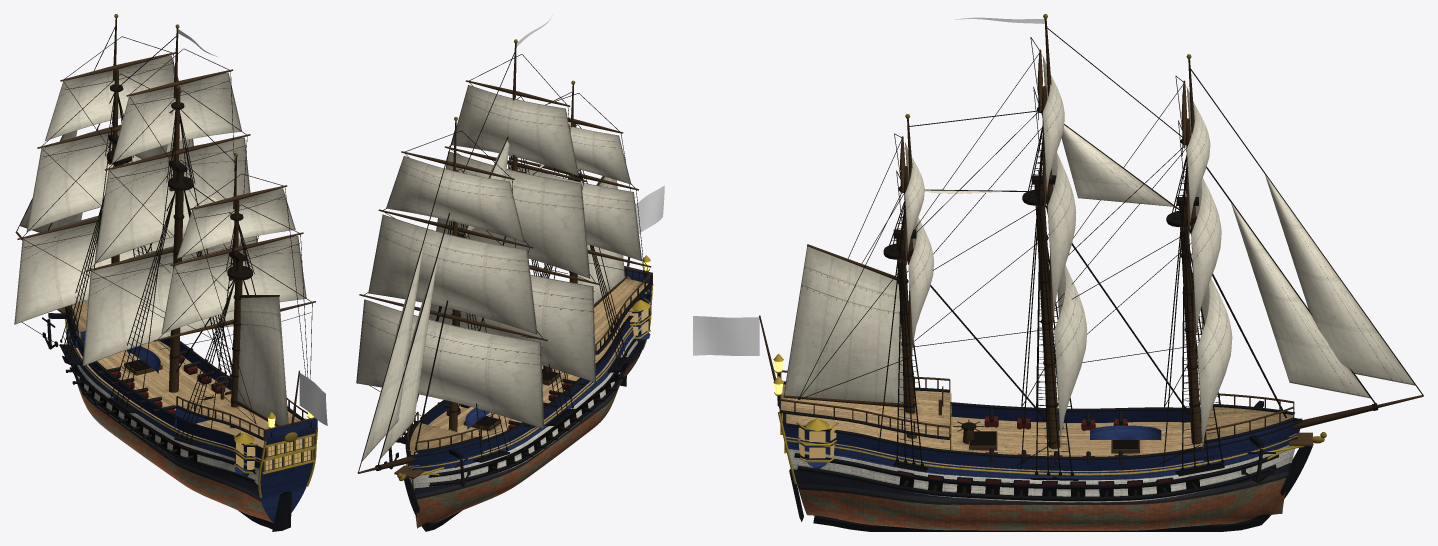
File: corvette.gltf
The picture shows the model from 3 angles, left to right: view 1: azimuth 30°, elevation 25°; view 2: azimuth 150°, elevation 25°; view 3: azimuth 270°, elevation 25°; orthographic projection. The views are drawn at different scales.
Parts seen in each view (by area): view 1: Hull, Sail_1_1_E, Sail_1_0, Sail_2_1, Sail_0_0, Sail_1_2, Sail_0_1_E, Sail_spanker, Sail_0_2, Sail_2_2, Flag, Sail_jib_1; view 2: Hull, Sail_0_0, Sail_0_1_E, Sail_1_1_E, Sail_1_2, Sail_0_2, Sail_1_0, Sail_2_1, Sail_jib_1, Sail_jib_0, Sail_2_2, Sail_spanker (+2 smaller); view 3: Hull, Sail_spanker, Sail_jib_1, Sail_jib_0, Sail_stay_1, Sail_0_0, Sail_1_0, Sail_0_1_E, Sail_1_1_E, Flag, Sail_2_1, Sail_0_2 (+2 smaller).
Part boxes in pixels (x1=…): Hull: x1=15, y1=14, x2=317, y2=531; Sail_1_1_E: x1=94, y1=137, x2=250, y2=263; Sail_1_0: x1=82, y1=236, x2=257, y2=365; Sail_2_1: x1=161, y1=236, x2=306, y2=333; Sail_0_0: x1=14, y1=216, x2=183, y2=324; Sail_1_2: x1=112, y1=72, x2=241, y2=163; Sail_0_1_E: x1=26, y1=124, x2=193, y2=231; Sail_spanker: x1=237, y1=296, x2=288, y2=425; Sail_0_2: x1=45, y1=55, x2=178, y2=140; Sail_2_2: x1=177, y1=188, x2=295, y2=258; Flag: x1=299, y1=373, x2=327, y2=425; Sail_jib_1: x1=20, y1=130, x2=77, y2=232; Hull: x1=357, y1=39, x2=653, y2=531; Sail_0_0: x1=356, y1=299, x2=544, y2=428; Sail_0_1_E: x1=368, y1=214, x2=537, y2=334; Sail_1_1_E: x1=436, y1=151, x2=590, y2=278; Sail_1_2: x1=451, y1=85, x2=578, y2=175; Sail_0_2: x1=386, y1=156, x2=524, y2=241; Sail_1_0: x1=429, y1=275, x2=595, y2=382; Sail_2_1: x1=511, y1=165, x2=641, y2=261; Sail_jib_1: x1=362, y1=243, x2=423, y2=461; Sail_jib_0: x1=380, y1=257, x2=437, y2=458; Sail_2_2: x1=569, y1=126, x2=631, y2=184; Sail_spanker: x1=577, y1=176, x2=624, y2=303; Hull: x1=759, y1=14, x2=1423, y2=531; Sail_spanker: x1=784, y1=246, x2=903, y2=403; Sail_jib_1: x1=1265, y1=174, x2=1415, y2=385; Sail_jib_0: x1=1231, y1=203, x2=1370, y2=398; Sail_stay_1: x1=1061, y1=125, x2=1173, y2=206; Sail_0_0: x1=1197, y1=278, x2=1232, y2=450; Sail_1_0: x1=1054, y1=265, x2=1087, y2=444; Sail_0_1_E: x1=1191, y1=178, x2=1221, y2=334; Sail_1_1_E: x1=1047, y1=152, x2=1076, y2=319; Flag: x1=693, y1=316, x2=759, y2=355; Sail_2_1: x1=908, y1=217, x2=933, y2=347; Sail_0_2: x1=1186, y1=87, x2=1210, y2=222.
Bounding box in the file's own units: 16.44 × 36.09 × 46.14.
18 materials, 4 textured.
